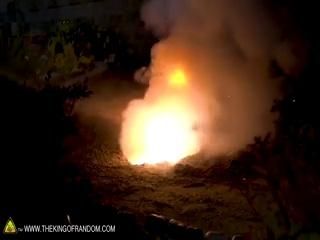Fire: (120, 48, 202, 164)
